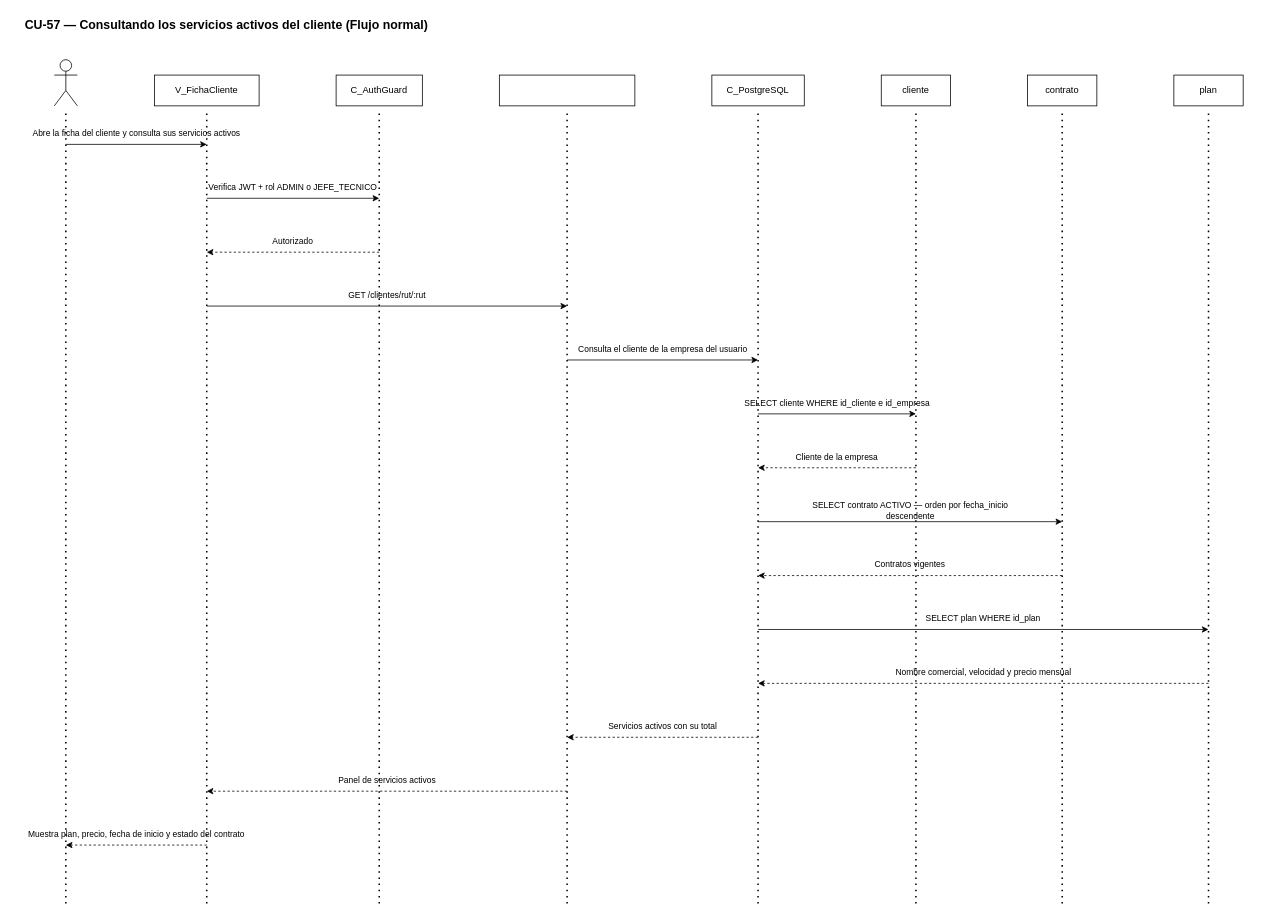
The diagram is 1287 pixels wide and 921 high, and some of its shapes have lost their labels. The centre of each missing label's shape, as x and y in pixels:
C_ClienteController: the point at 567,90
Jefe Técnico: the point at 65,82
